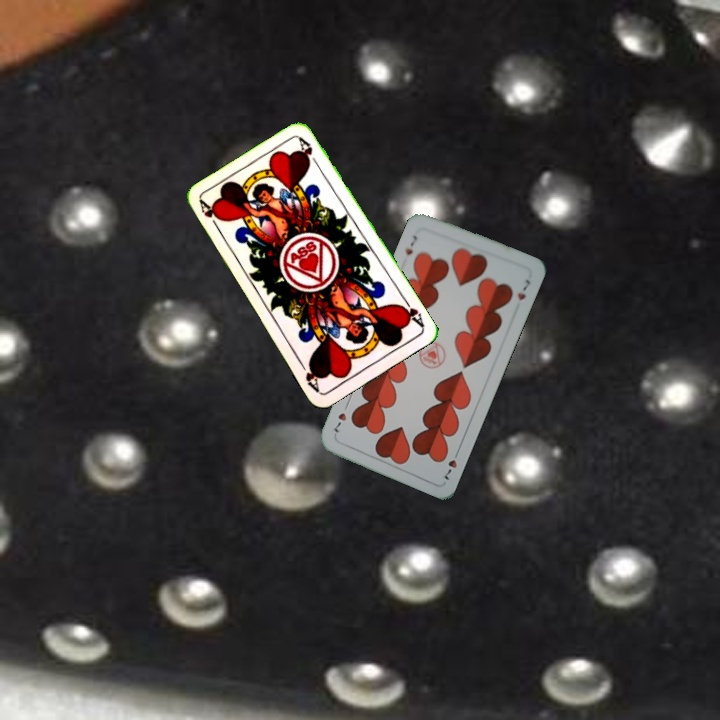H7: (440, 445, 462, 483), (401, 231, 421, 258)
HA: (395, 293, 427, 330), (196, 197, 223, 234)
